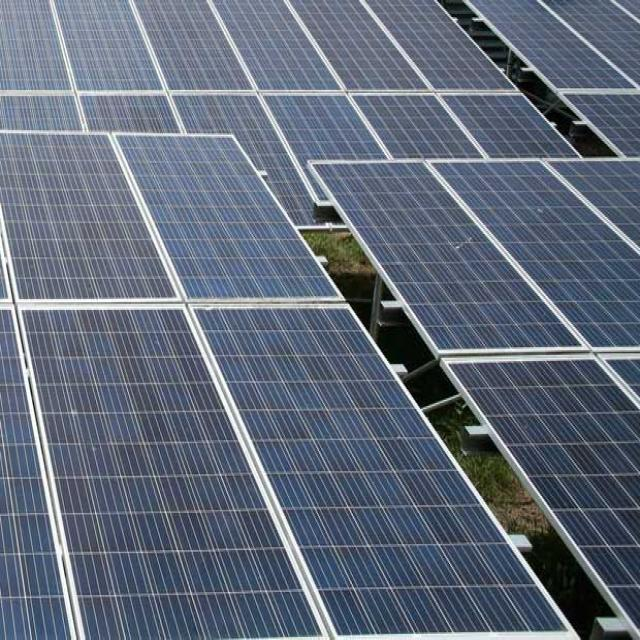clean-solar-panel: (0, 0, 640, 637)
